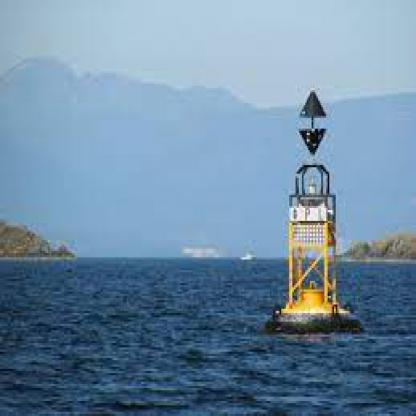buoy: (260, 84, 368, 341)
